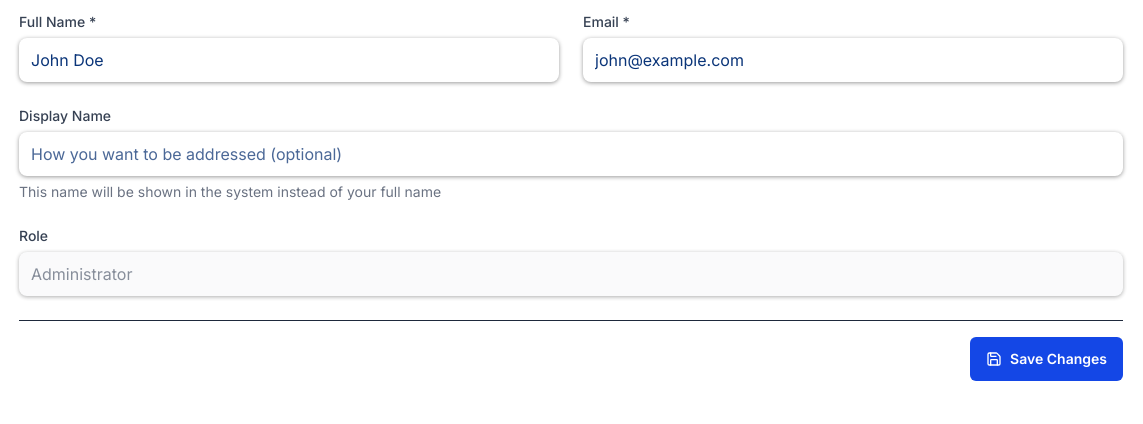
Test: PersonalDataSettings › validates required fields for admin users
Clear the field showing "John Doe" below "Full Name *" at point(289, 60), box [19,38,559,82]
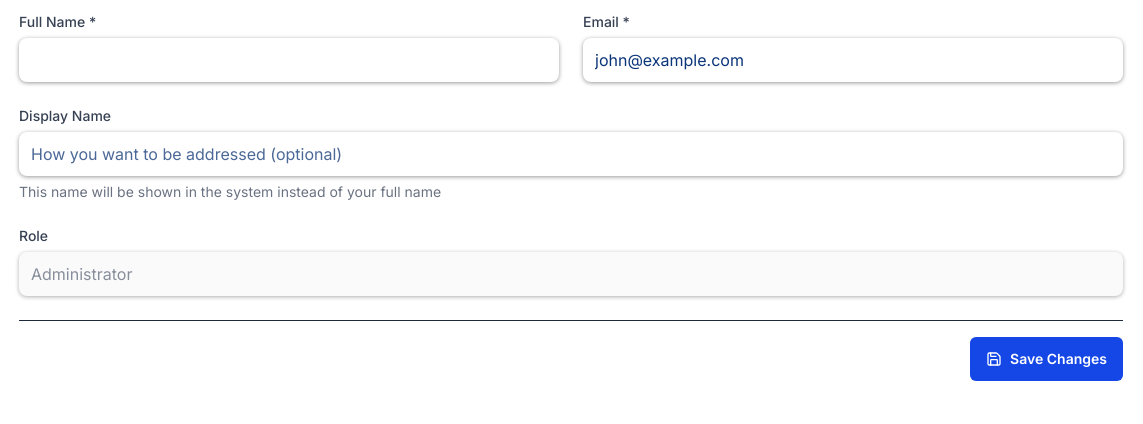
Click the button "Save Changes" at point(1047, 359), box [970,337,1123,381]
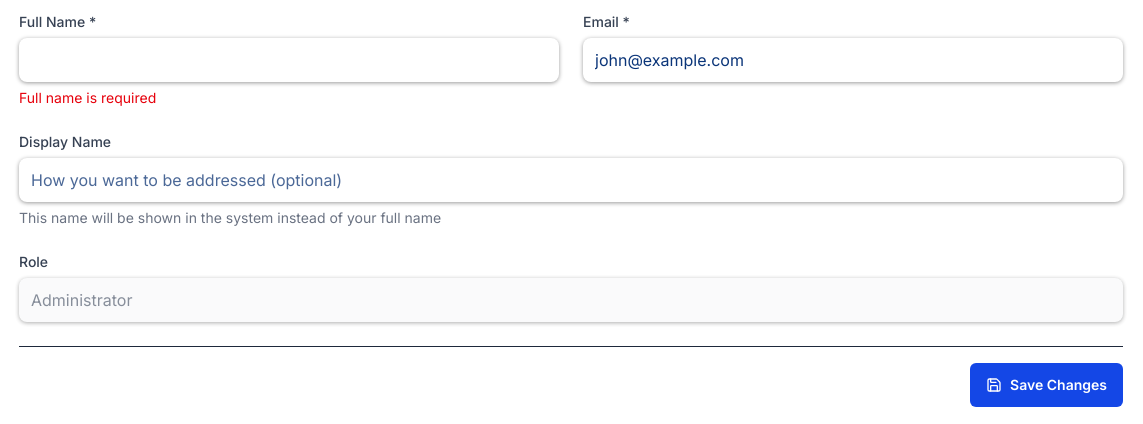
expect the text "Full name is required" is shown: met, box [19,89,156,106]
